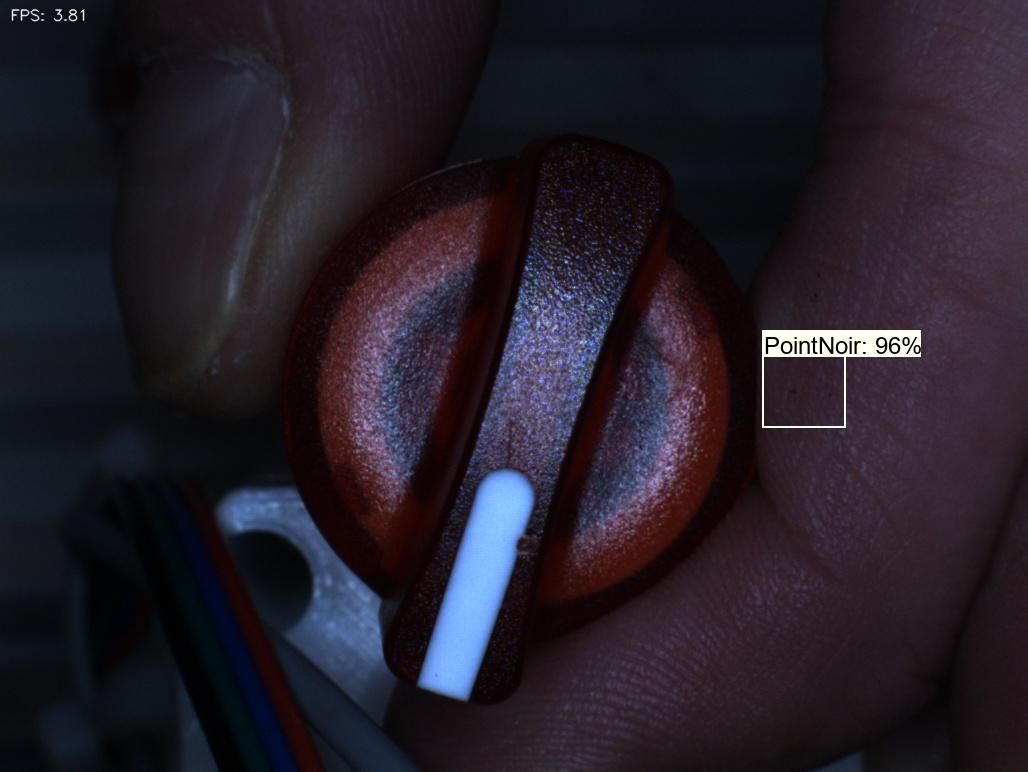Choc: (493, 511, 568, 586)
